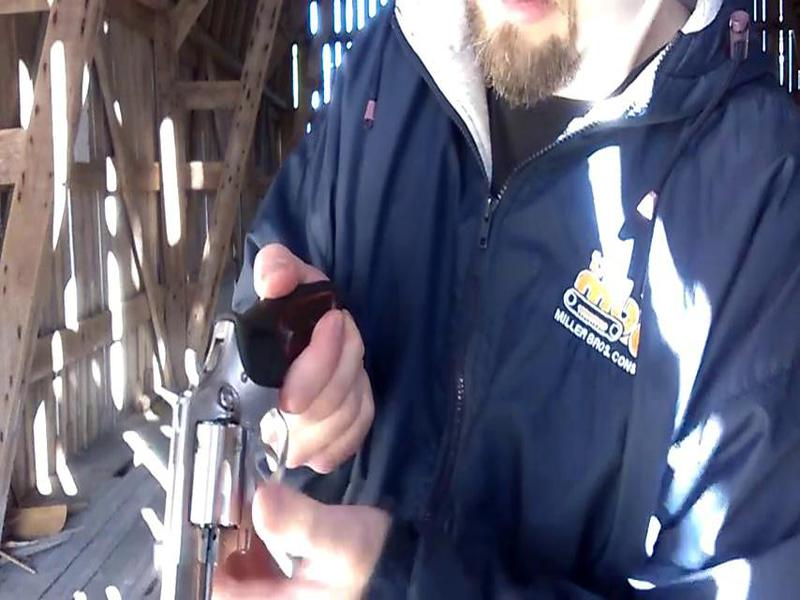Revolver: (157, 258, 349, 600)
